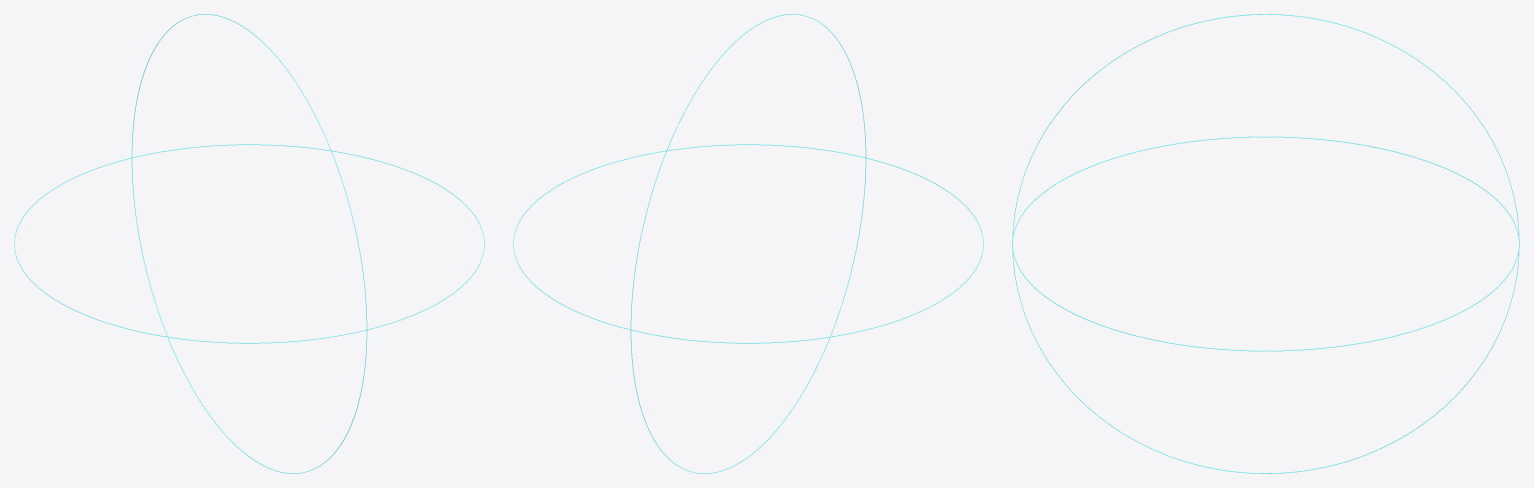
Rendered from layout-cyan-rings.glb.
The picture shows the model from 3 angles, left to right: view 1: azimuth 30°, elevation 25°; view 2: azimuth 150°, elevation 25°; view 3: azimuth 270°, elevation 25°; orthographic projection. The views are drawn at different scales.
Size of the model in its own units: 2 by 2 by 2.
